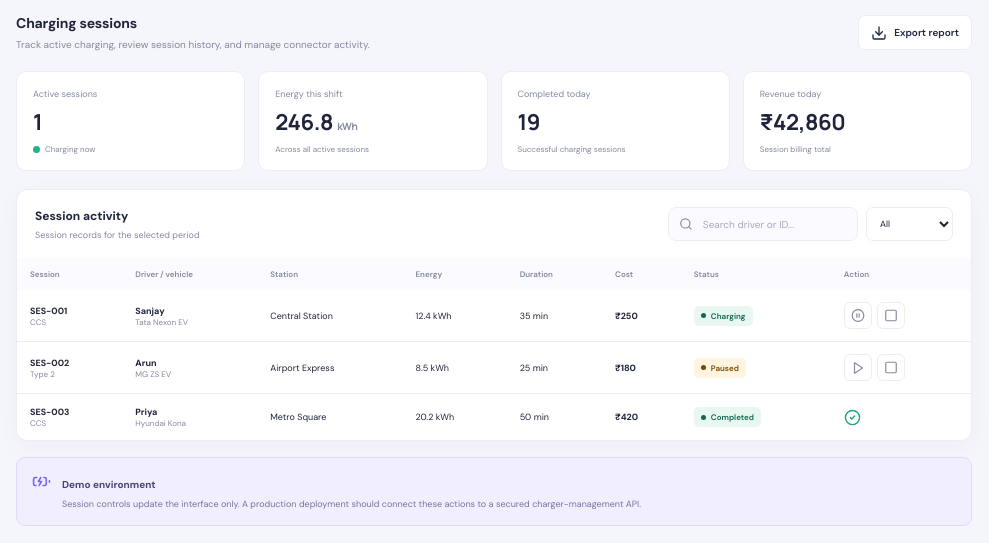
Scenario: Sessions › filters sessions by status
Select "Paused" in the dropdown named "Filter sessions" at (910, 224), box x1=866 y1=207 x2=953 y2=241
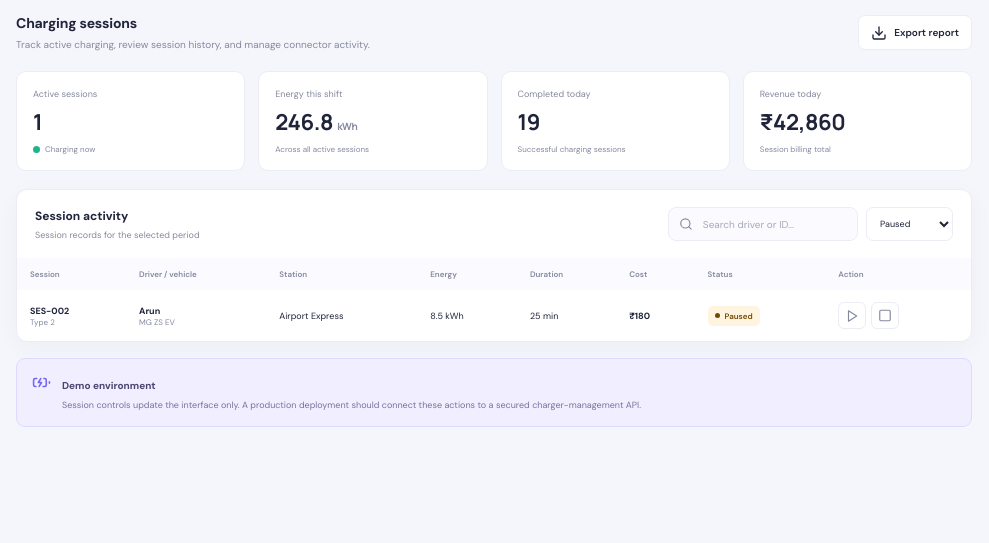
Expected: the text "SES-002" is shown, x1=30 y1=304 x2=69 y2=316
Expected: the text "SES-001" is gone
Expected: the text "SES-003" is gone
